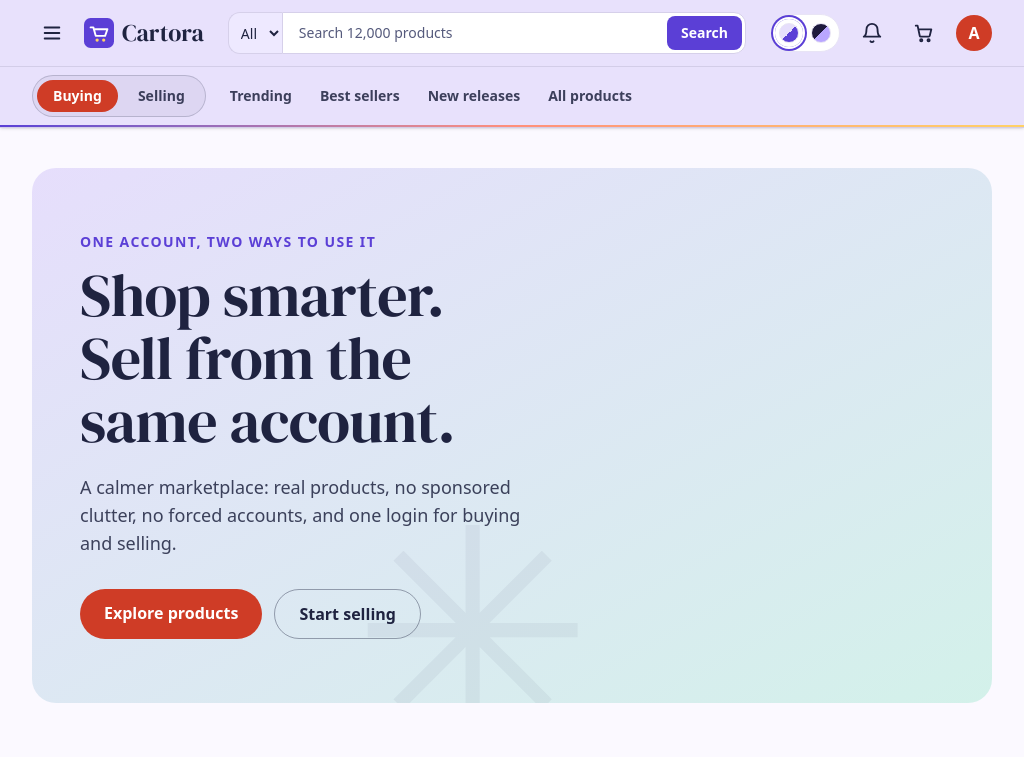
header account area › signs out from the menu and confirms with a message
The image size is (1024, 757).
Click the button named "account menu".
click(974, 33)  # box [956, 15, 992, 51]
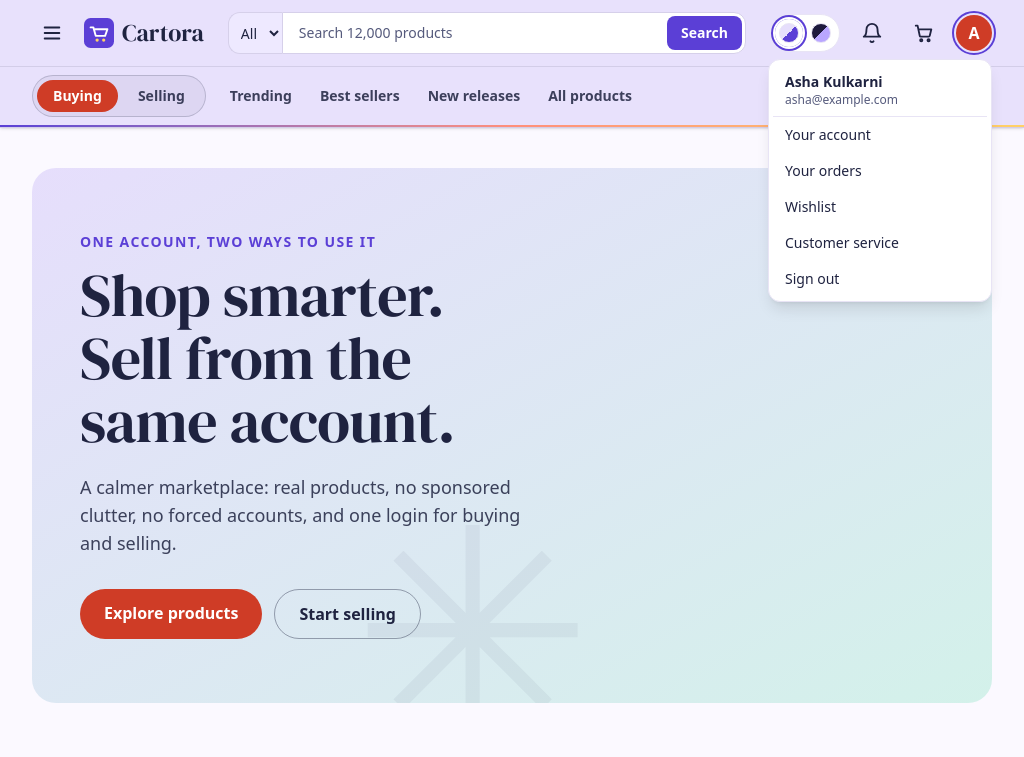
Expected: the menu item "Your account" is shown, [785, 125, 871, 144]
Click the menu item "Sign out".
click(880, 279)  # box [773, 261, 987, 297]
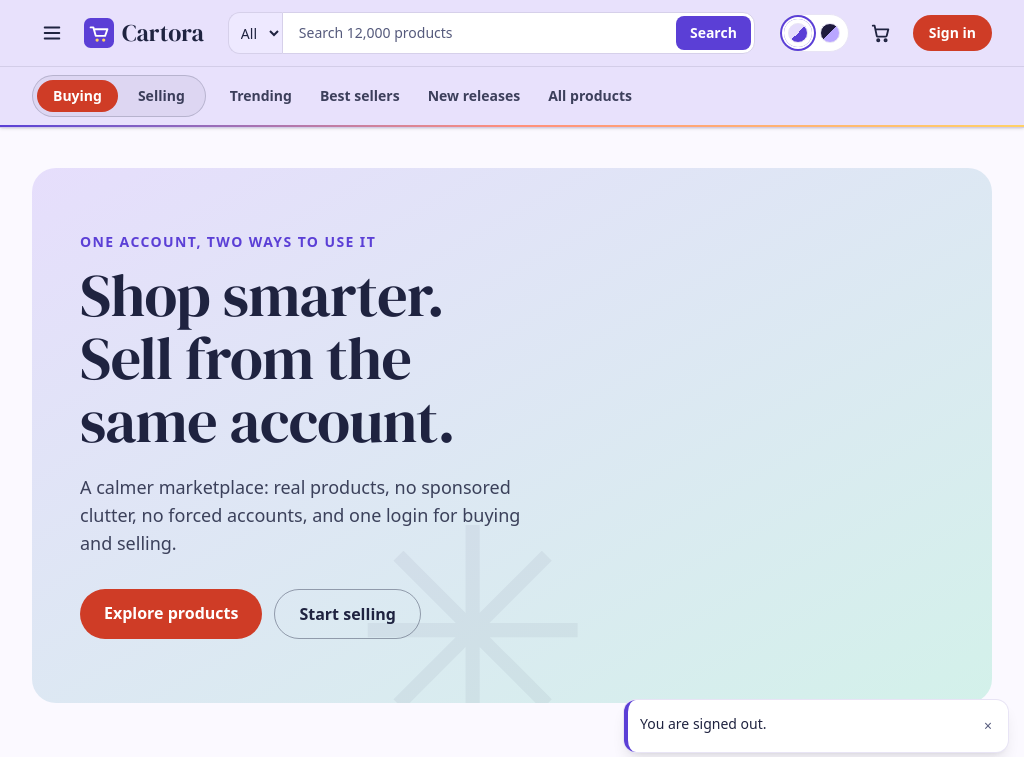
Expected: the link "Sign in" is shown, [913, 15, 992, 51]
Expected: the text "You are signed out." is shown, [640, 714, 766, 733]
